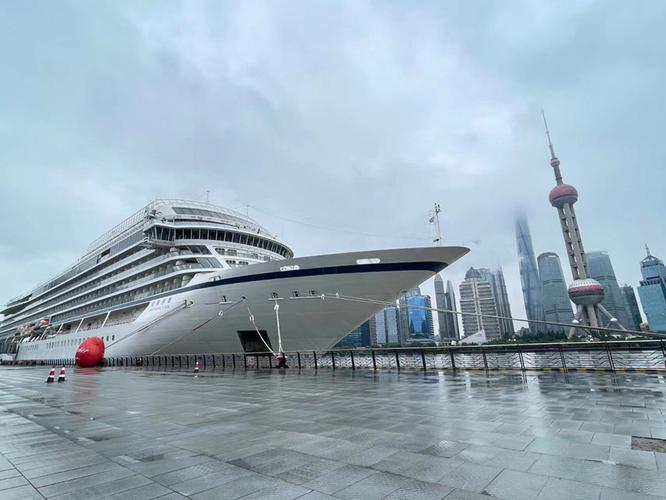Ship: (13, 212, 482, 361)
